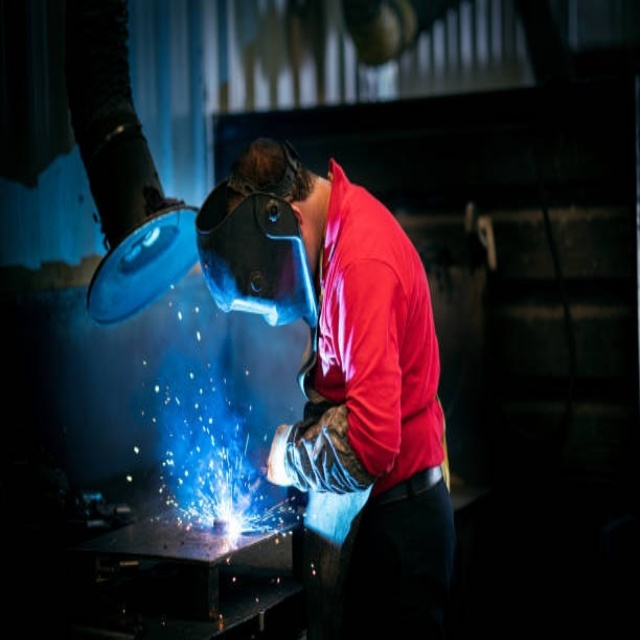Guantes: (259, 392, 373, 496)
